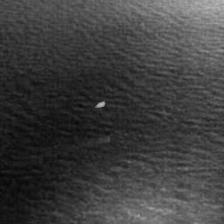Target: (94, 101, 106, 108)
